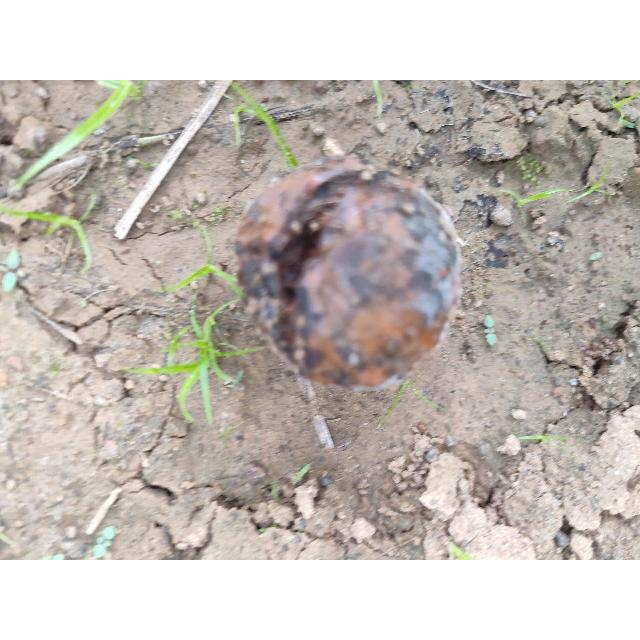damaged: (236, 156, 461, 389)
